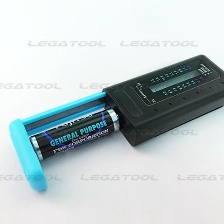battery: (26, 103, 123, 163)
